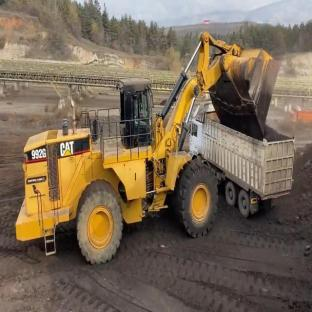ExcavationMachinery: (21, 39, 259, 230)
Vehicle: (197, 105, 312, 229)
